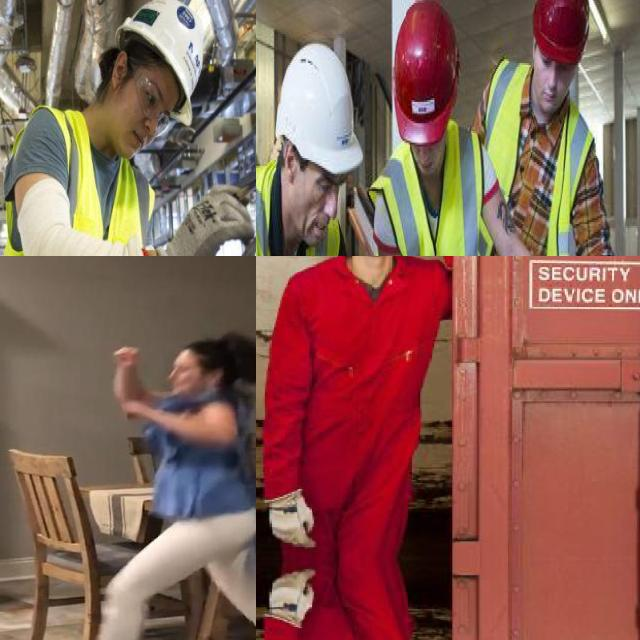No_Ear-Protection: (209, 356, 236, 400), (281, 136, 299, 187)
face_nomask: (106, 51, 180, 166), (298, 154, 346, 248), (532, 50, 573, 116), (163, 366, 198, 396)
glasses: (132, 71, 172, 135)
hand_glove: (156, 187, 256, 256), (270, 492, 314, 547)
hand_noglove: (104, 338, 151, 376)
head_helmet: (276, 40, 363, 179), (391, 0, 460, 140), (133, 0, 202, 132), (531, 0, 589, 61)
person: (33, 331, 256, 640), (0, 0, 205, 256), (482, 0, 610, 256), (373, 0, 494, 256), (256, 44, 377, 256)
vest: (482, 55, 591, 256), (9, 119, 141, 256), (383, 123, 492, 256), (256, 161, 337, 256)
